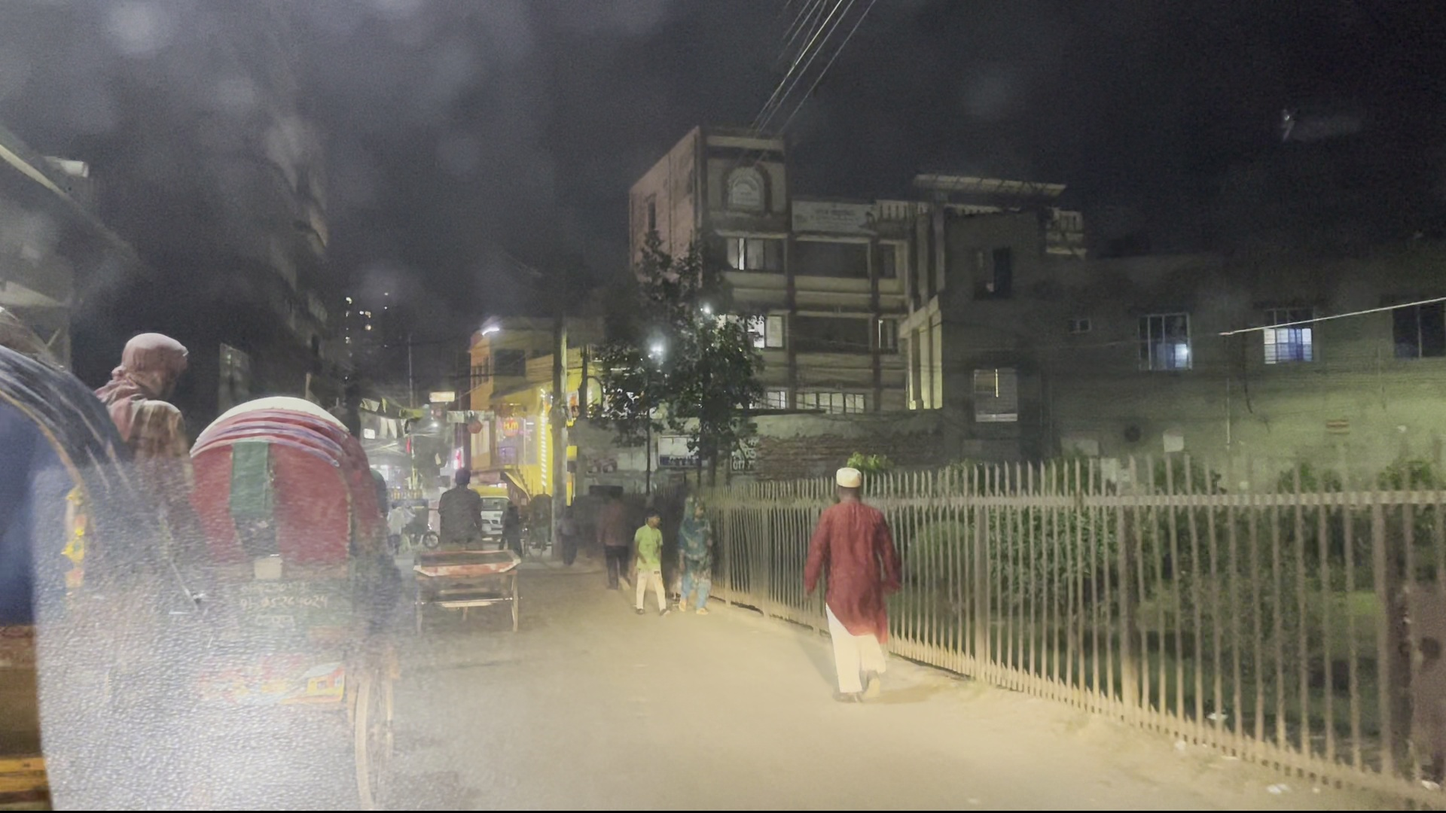person: (797, 458, 903, 707), (671, 494, 718, 615), (631, 503, 673, 618)
